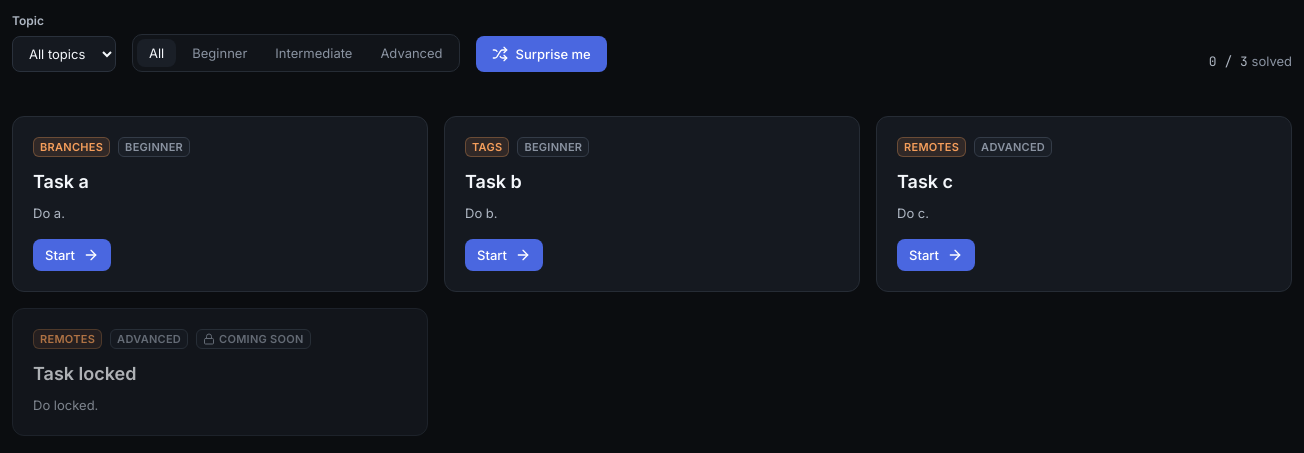
PracticeBrowser › filters by topic and difficulty
The width and height of the screenshot is (1304, 453).
Select "Remotes" in the dropdown labelled "Topic": point(64, 54) [12, 36, 116, 72]
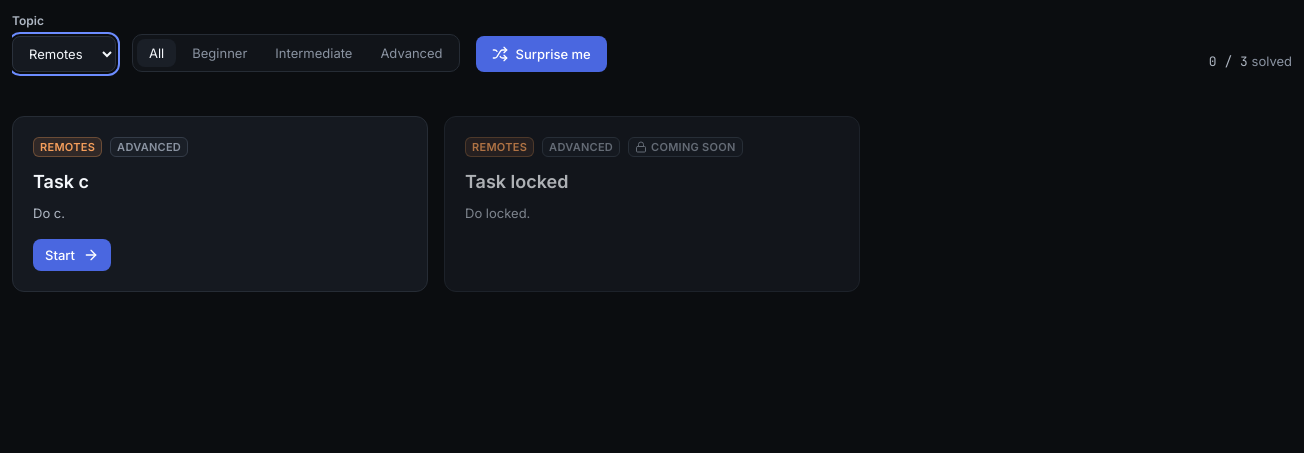
Click the button "Beginner": point(220, 53) [180, 39, 259, 67]
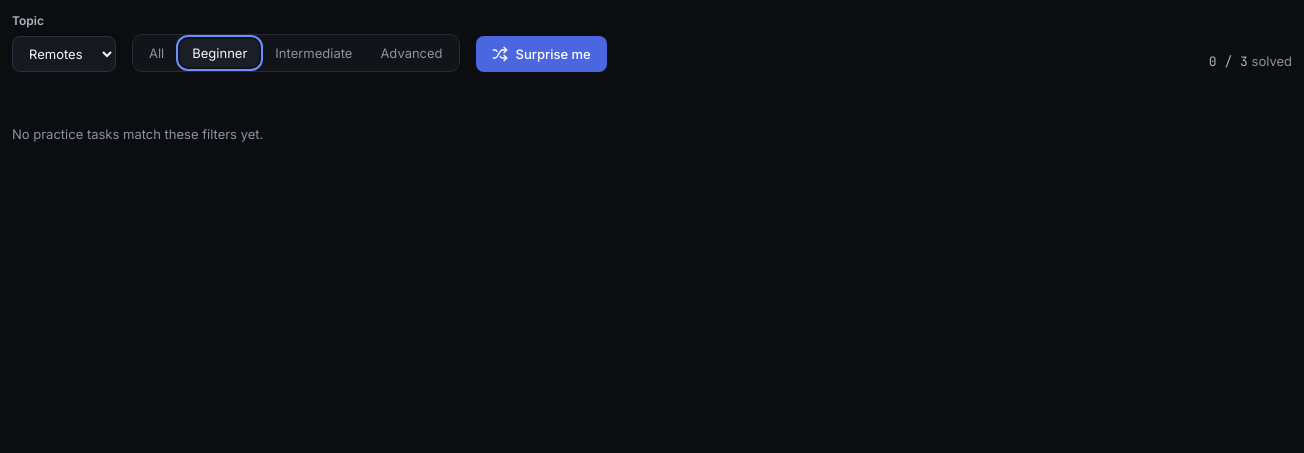
Now the text "No practice tasks match these filters yet." is shown, box [12, 126, 263, 142]
